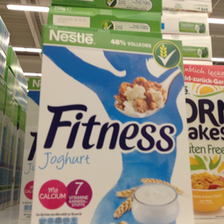cereal: (34, 26, 194, 221)
